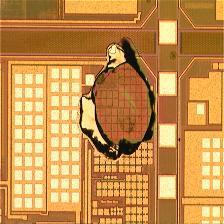PARTICLE: (77, 35, 165, 165)
